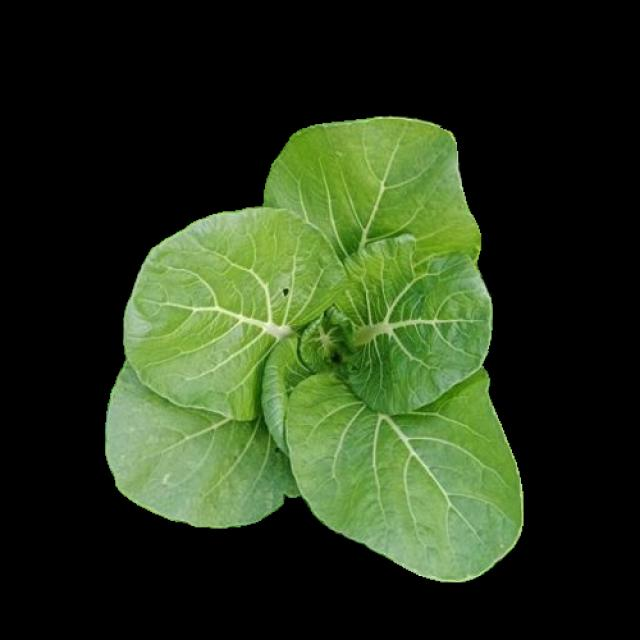mature: (105, 122, 520, 582)
unhealthy: (126, 206, 346, 420)
